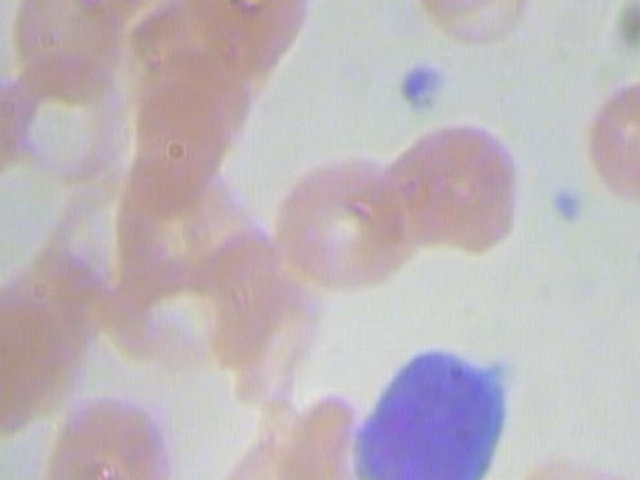Platelets: (390, 56, 453, 118), (530, 170, 593, 232)
RBC: (183, 219, 341, 381), (375, 109, 532, 271), (260, 137, 417, 299), (123, 29, 280, 191), (0, 233, 127, 395), (0, 49, 135, 184), (31, 382, 188, 480), (0, 279, 69, 441), (176, 0, 319, 69), (191, 418, 348, 480), (579, 64, 640, 200), (0, 55, 42, 190), (57, 0, 175, 36), (394, 0, 522, 20)
WBC: (332, 335, 546, 480)
